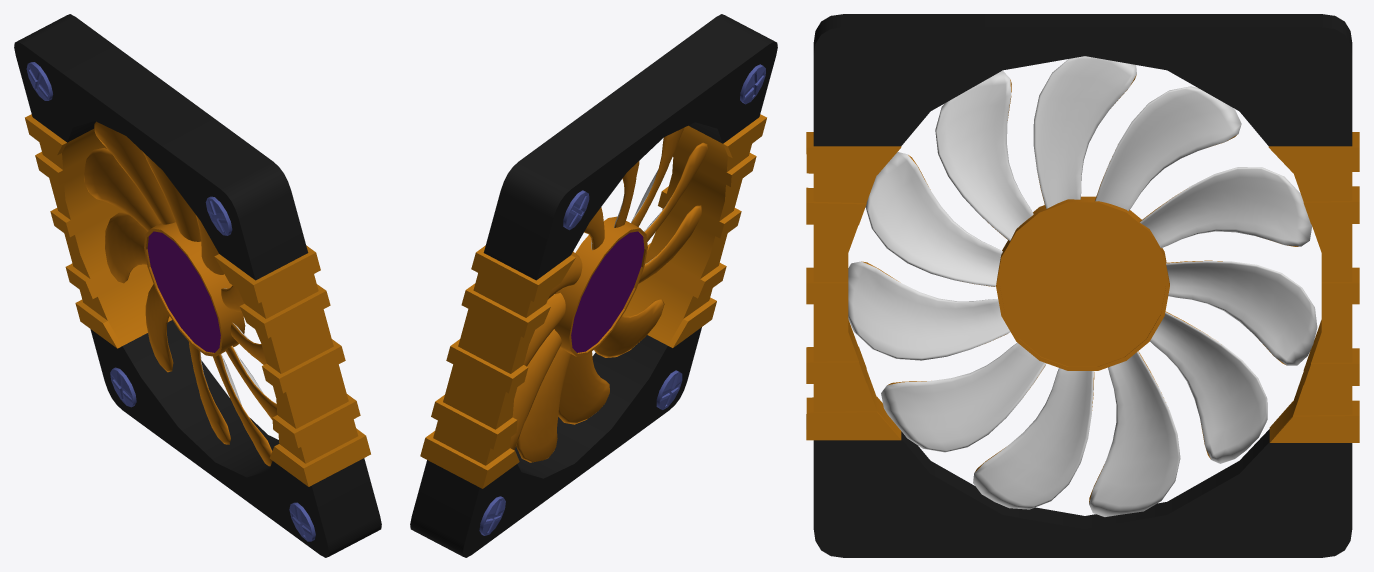
The model's file is SM_Helix.fbx.
3 renders of one model, left to right at view 1: azimuth 30°, elevation 25°; view 2: azimuth 150°, elevation 25°; view 3: azimuth 270°, elevation 25°, orthographic. The views are drawn at different scales.
Parts seen in each view (by area): view 1: Helix_Support, Helix; view 2: Helix_Support, Helix; view 3: Helix_Support, Helix.
Part boxes in pixels (left/top/right/bottom): Helix_Support: left=14, top=14, right=381, bottom=557; Helix: left=84, top=121, right=277, bottom=466; Helix_Support: left=410, top=14, right=777, bottom=557; Helix: left=510, top=128, right=707, bottom=462; Helix_Support: left=806, top=14, right=1359, bottom=557; Helix: left=848, top=56, right=1317, bottom=516.
Size of the model in its own units: 0.5287 by 1.34 by 1.37.
